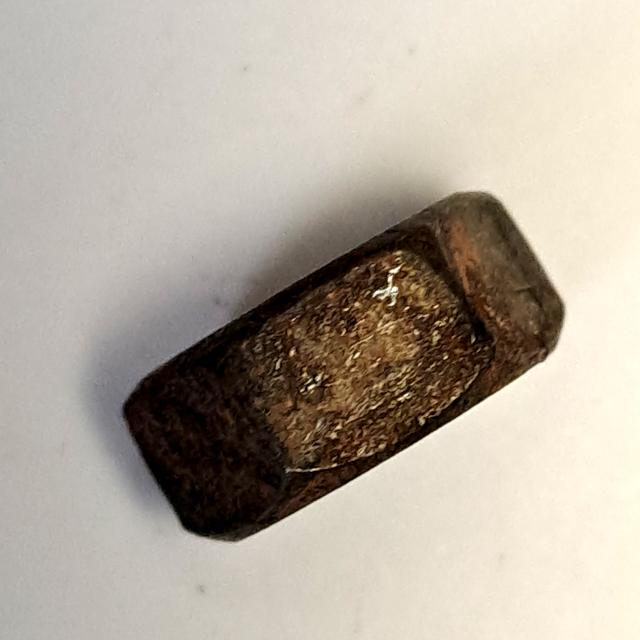Side_Rust: (104, 171, 586, 561)
